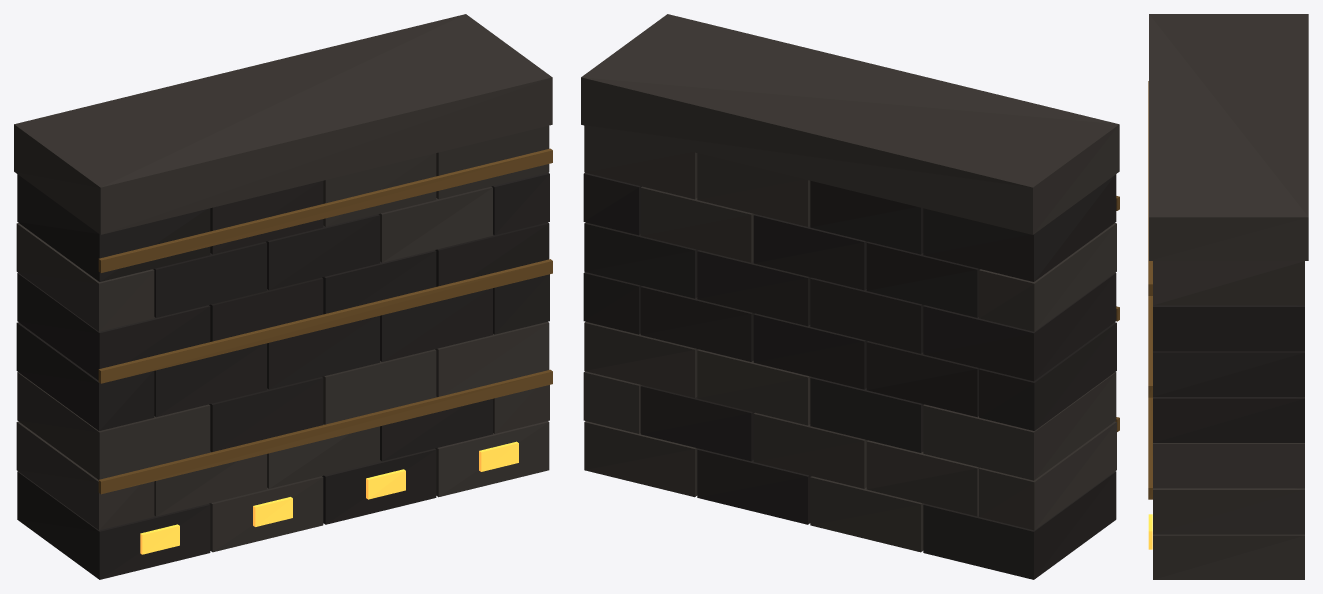
Rendered from foundry-wall-a.glb.
The picture shows the model from 3 angles, left to right: view 1: azimuth 30°, elevation 25°; view 2: azimuth 150°, elevation 25°; view 3: azimuth 270°, elevation 25°; orthographic projection. The views are drawn at different scales.
Parts seen in each view (by area): view 1: foundry-wall-a; view 2: foundry-wall-a; view 3: foundry-wall-a.
Part boxes in pixels (x1,y1,x2,y2): foundry-wall-a: [14, 14, 552, 579]; foundry-wall-a: [581, 14, 1119, 579]; foundry-wall-a: [1148, 14, 1308, 579].
Size of the model in its own units: 6 by 5 by 2.
